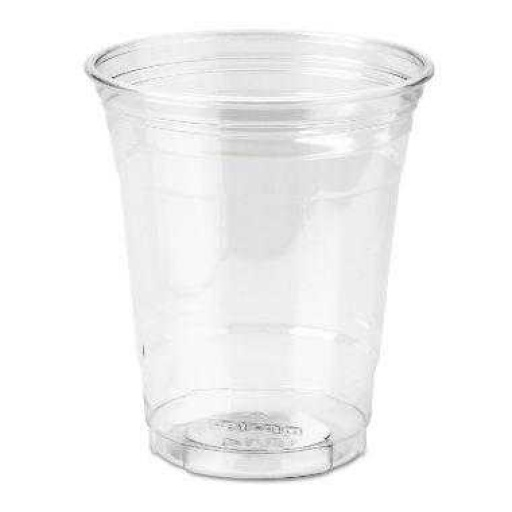cup: (81, 30, 433, 481)
